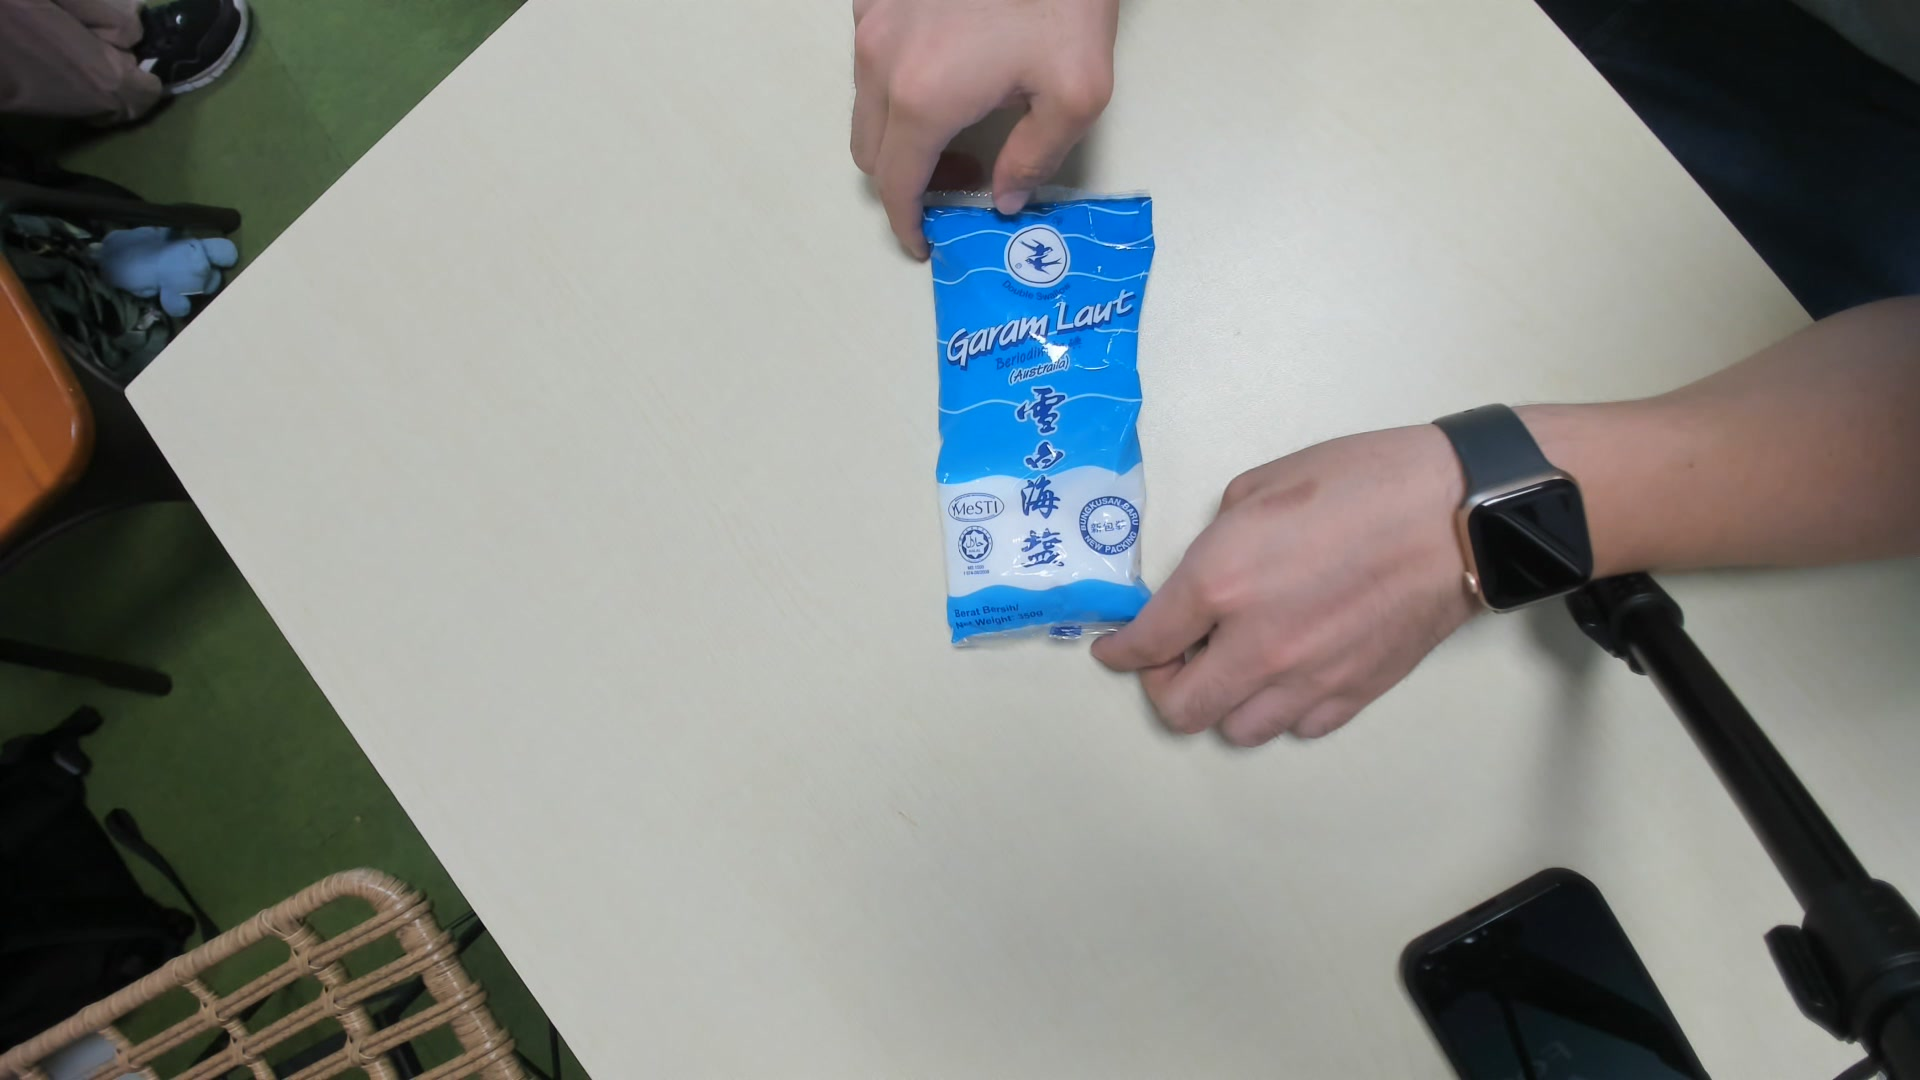Salt_300-399g_NonHalal_NonHealthy: (924, 191, 1163, 650)
